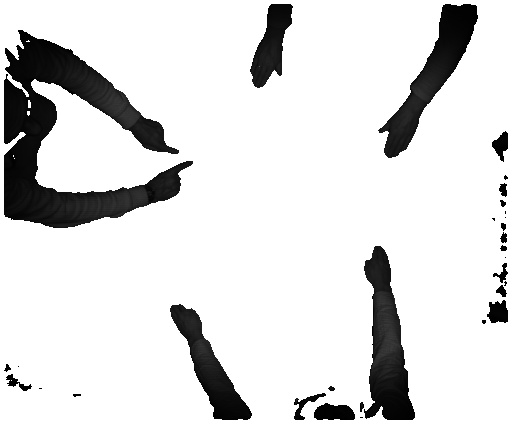hand: (133, 111, 181, 159), (376, 108, 420, 159), (152, 162, 199, 207), (248, 38, 287, 87), (360, 240, 395, 289), (168, 304, 207, 339)
